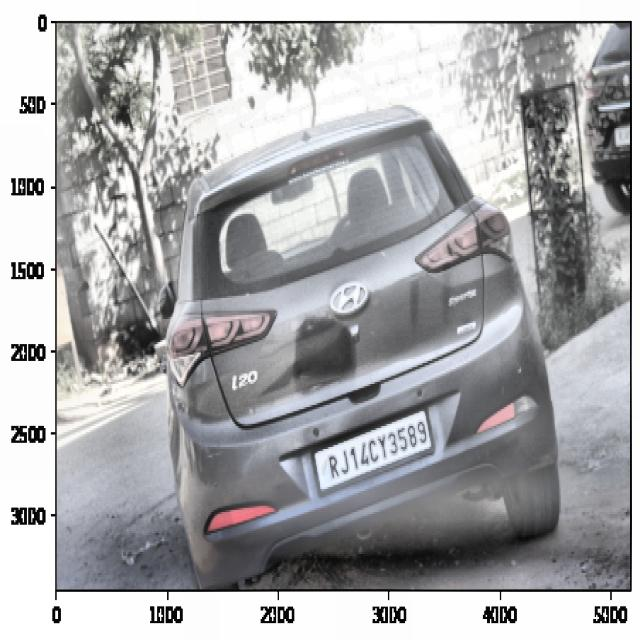license_plate: (326, 416, 431, 483)
